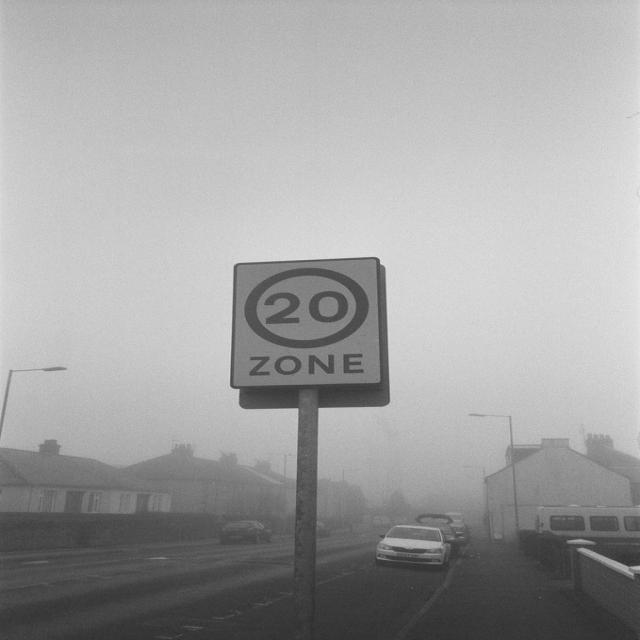forb_speed_over_20: (255, 269, 365, 341)
